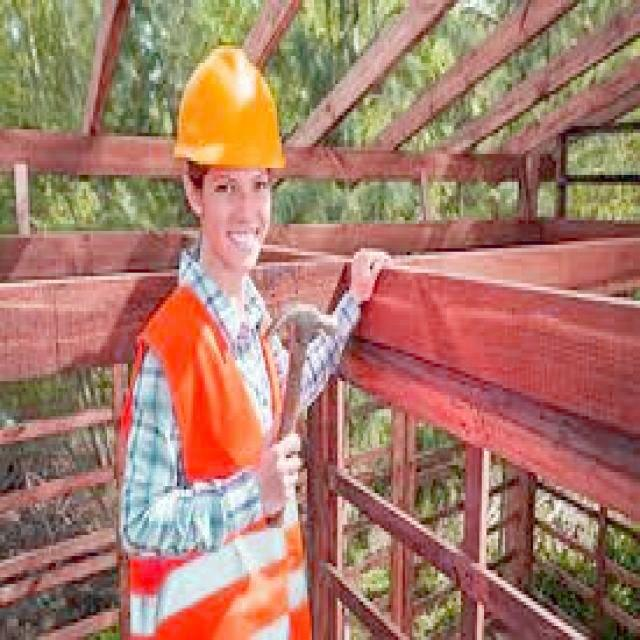hammer: (250, 295, 341, 509)
